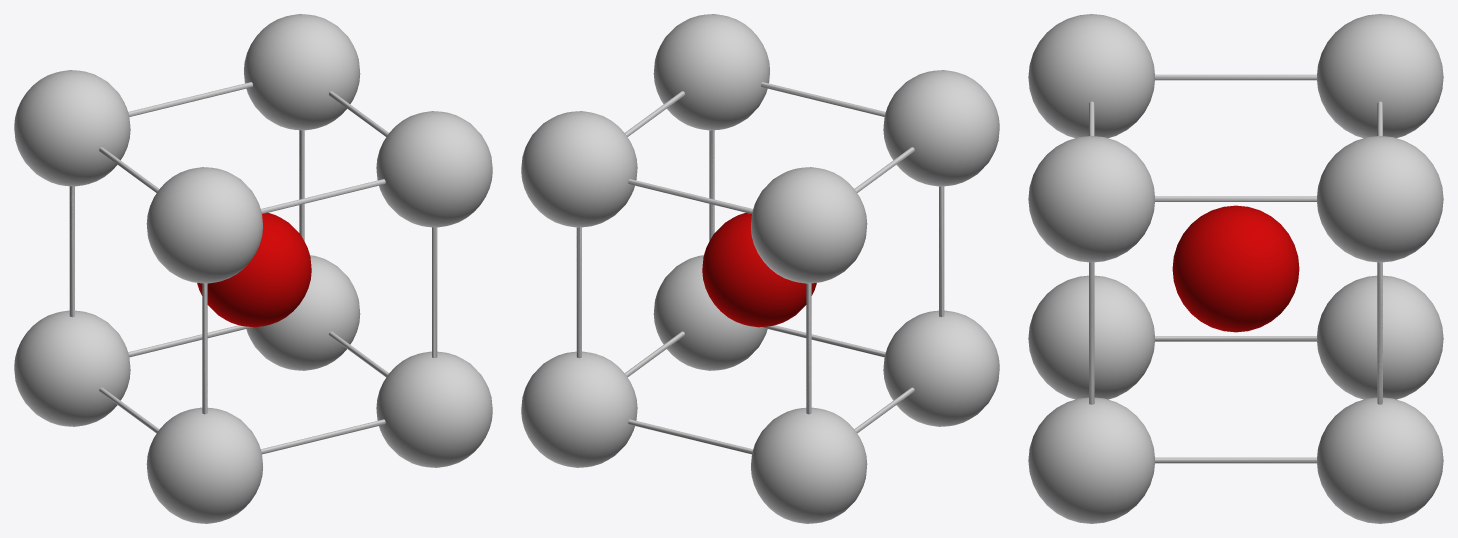
Rendered from jingbao1.gltf.
The picture shows the model from 3 angles, left to right: view 1: azimuth 30°, elevation 25°; view 2: azimuth 150°, elevation 25°; view 3: azimuth 270°, elevation 25°; orthographic projection. The views are drawn at different scales.
Visible parts, largest first — view 1: 1; view 2: 1; view 3: 1.
Boxes of the visible parts, left/top/right/bottom form: 1: left=14, top=14, right=492, bottom=523; 1: left=521, top=14, right=999, bottom=523; 1: left=1028, top=14, right=1443, bottom=523.
Bounding box in the file's own units: 72 × 72 × 72.
